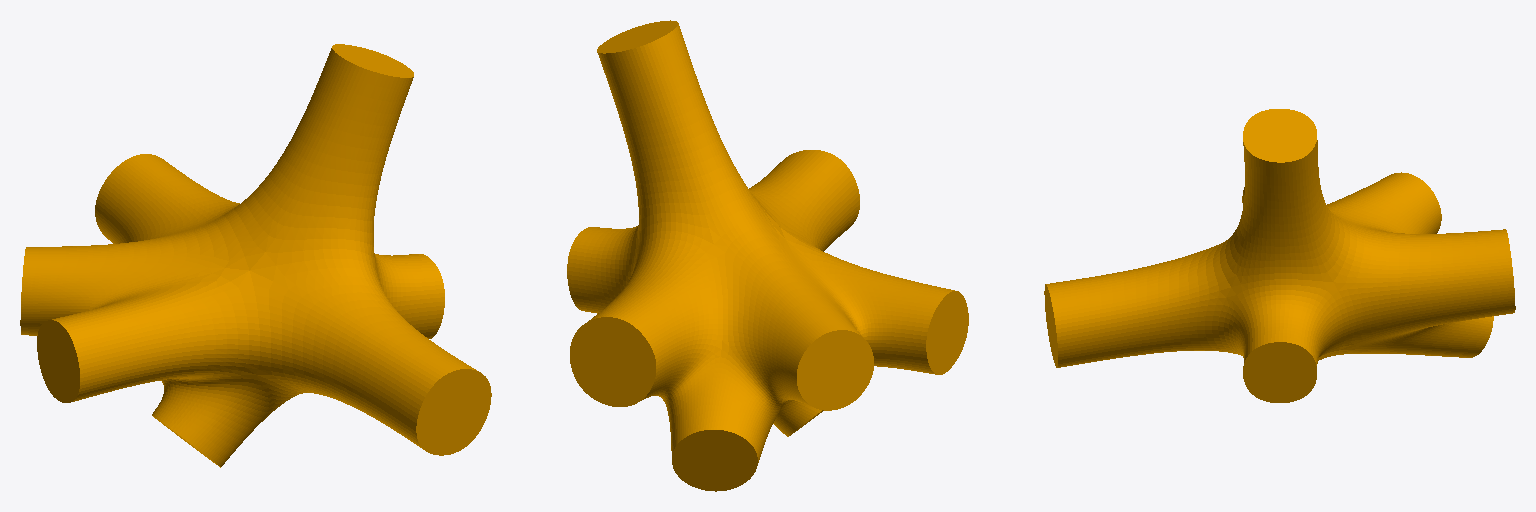
The robot description file, URDF, robot "object":
<robot name="object">
  <link name="object">
    <visual>
      <origin xyz="0 0 0"/>
      <geometry>
        <mesh filename="visual.obj" scale="1 1 1"/>
      </geometry>
    </visual>
    <collision>
      <origin xyz="0 0 0"/>
      <geometry>
        <mesh filename="visual.obj" scale="1 1 1"/>
      </geometry>
    </collision>
    <inertial>
      <mass value="0.05"/>
      <inertia ixx="4.7614081132578725e-05" iyy="3.6661749000728864e-05" izz="5.672966410034401e-05" ixy="9.074916228718863e-06" ixz="-6.077800071380945e-06" iyz="1.6551155326889235e-06"/>
    </inertial>
  </link>
</robot>

--- Render facts (derived) ---
3 views of the same robot in one strip: view 1: azimuth 30°, elevation 25°; view 2: azimuth 150°, elevation 25°; view 3: azimuth 270°, elevation 25° (orthographic).
Model object with 1 links and 0 joints (none), rooted at object, posed every joint at zero.
Links seen in each view (by area): view 1: object; view 2: object; view 3: object.
Link boxes in pixels (x1,y1,x2,y2): object: (20,44,491,467); object: (567,20,968,491); object: (1044,109,1515,402).
Bounding box of the posed robot: 0.108 × 0.1364 × 0.105 m (x, y, z).
Meshes: 1 distinct files referenced, 1 mesh visuals loaded (1 OBJ).
